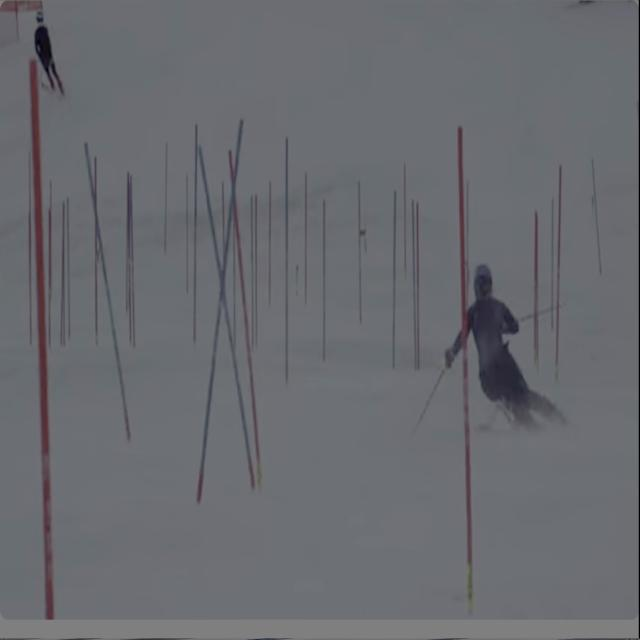gate: (21, 62, 79, 640), (446, 136, 484, 608)
